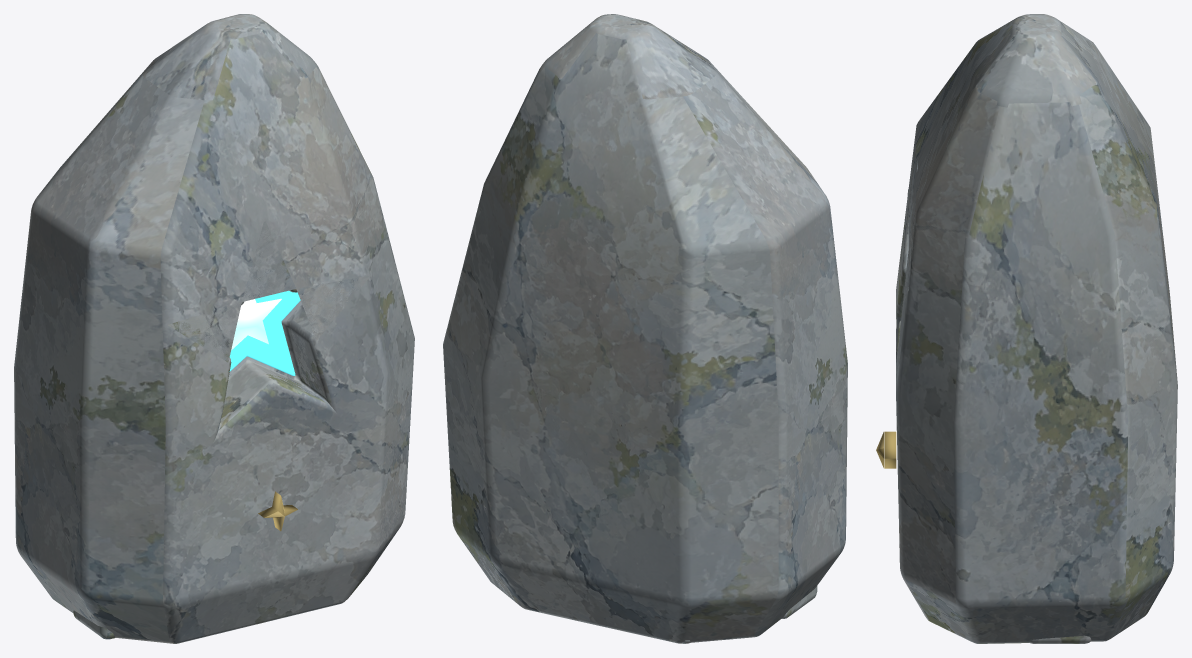
Rendered from SM_SP_StarMenhir_01.fbx.
3 views of the same model, side by side, from view 1: azimuth 30°, elevation 25°; view 2: azimuth 150°, elevation 25°; view 3: azimuth 270°, elevation 25° (orthographic). The views are drawn at different scales.
Visible parts, largest first — view 1: SM_SP_StarMenhir_01; view 2: SM_SP_StarMenhir_01; view 3: SM_SP_StarMenhir_01.
Part boxes in pixels (bbox=[...]): SM_SP_StarMenhir_01: bbox=[14, 14, 414, 643]; SM_SP_StarMenhir_01: bbox=[443, 14, 847, 643]; SM_SP_StarMenhir_01: bbox=[876, 14, 1177, 643].
Bounding box in the file's own units: 1.07 × 0.8152 × 1.7.
